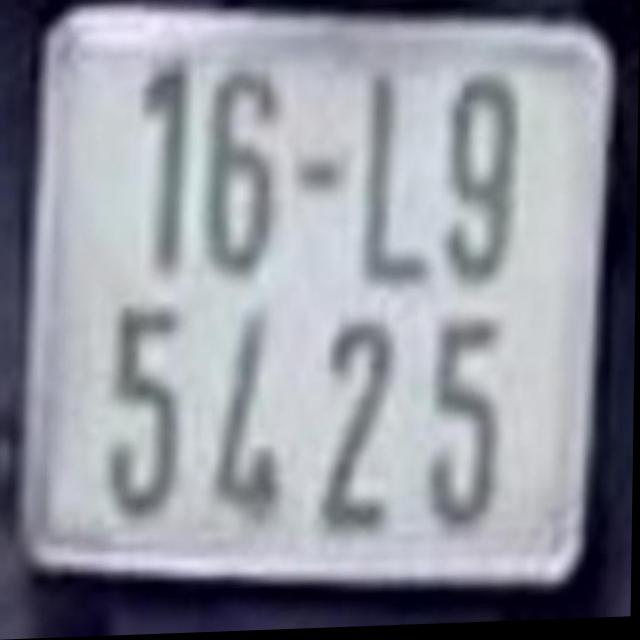1: (140, 48, 187, 265)
2: (326, 315, 396, 531)
4: (214, 302, 291, 528)
5: (433, 318, 509, 528), (113, 299, 184, 515)
6: (206, 60, 273, 268)
9: (452, 70, 522, 295)
L: (365, 65, 438, 290)
